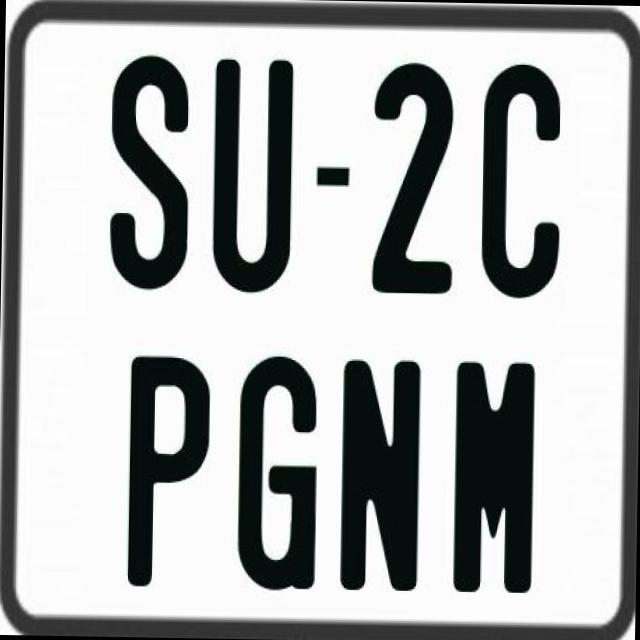2: (367, 57, 455, 292)
C: (478, 59, 564, 302)
G: (237, 352, 325, 594)
M: (450, 356, 532, 592)
N: (338, 357, 420, 597)
P: (127, 350, 210, 590)
S: (106, 54, 194, 294)
U: (211, 59, 299, 302)
